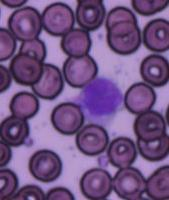L: (76, 74, 126, 125)
